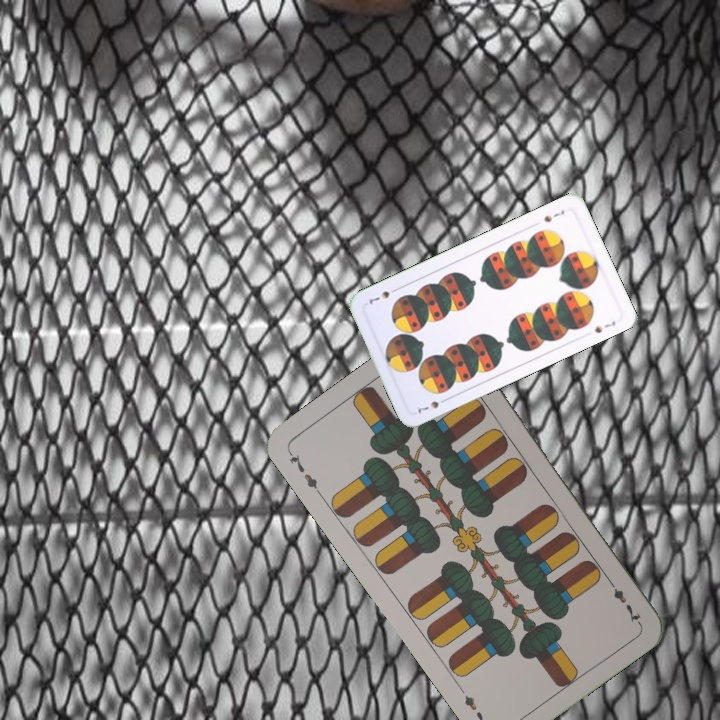E7: (284, 447, 325, 499), (603, 574, 643, 626)
S7: (413, 394, 451, 417), (540, 206, 567, 225)
